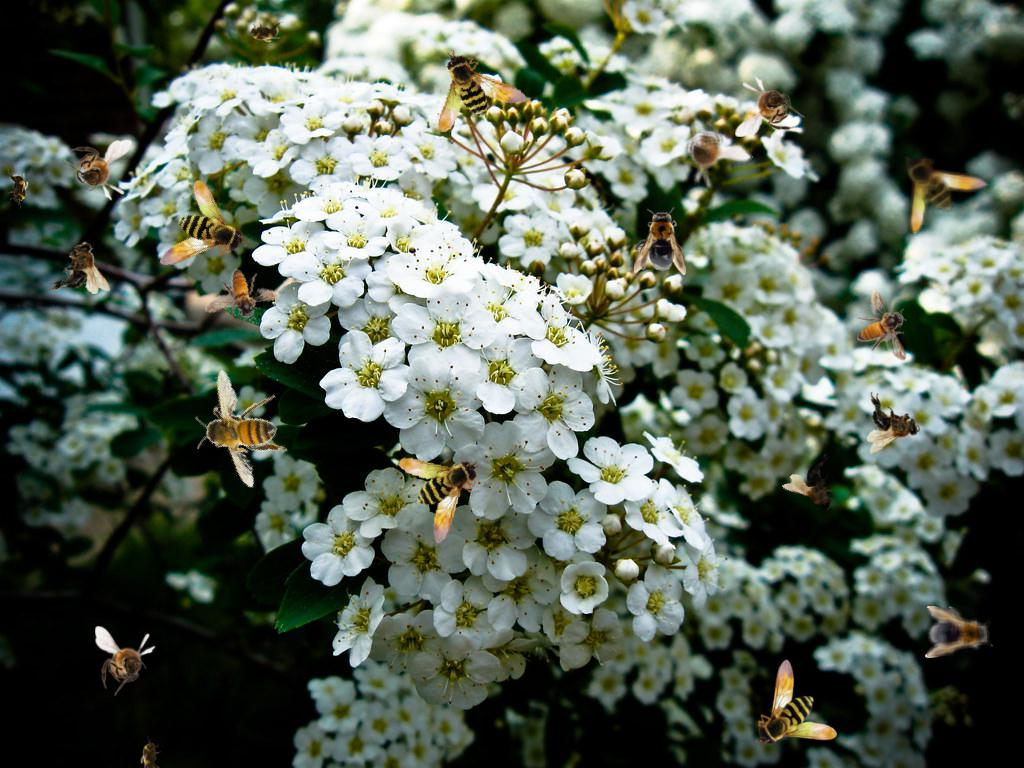Bee: (167, 353, 312, 499), (132, 173, 252, 291), (429, 49, 535, 149), (388, 449, 482, 549), (661, 106, 754, 200), (902, 153, 990, 235), (755, 659, 837, 747), (777, 446, 860, 526), (204, 263, 284, 328), (95, 626, 156, 696), (735, 76, 805, 137), (62, 140, 132, 201), (857, 290, 907, 361), (925, 606, 993, 658), (634, 207, 686, 275), (867, 392, 920, 454), (48, 241, 110, 294), (244, 21, 284, 43), (7, 169, 29, 209), (140, 736, 162, 768)
